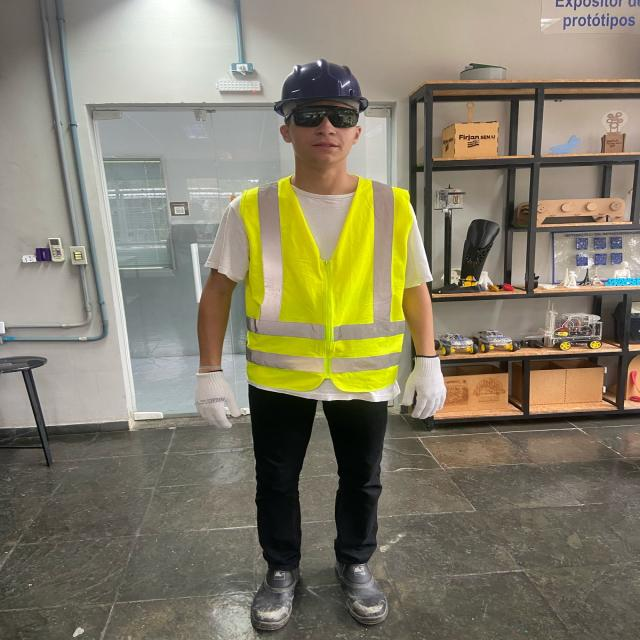BOTA: (332, 543, 394, 629), (248, 551, 307, 631)
CAPACETE: (271, 60, 369, 113)
COLETE: (227, 168, 412, 391)
LUVA: (392, 349, 455, 431), (188, 366, 245, 431)
OCULOS: (292, 106, 360, 128)
